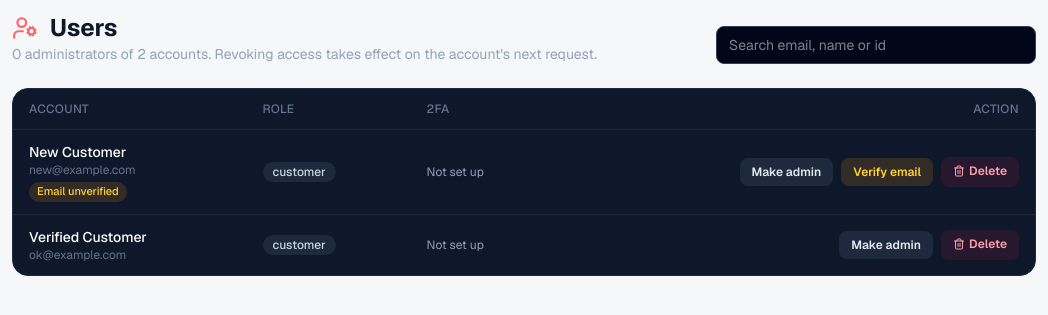
Test: AdminUsersPage: verify email › sends the reason and shows the account as verified
Click the button "Verify email".
click(887, 172)  # box top-left (841, 158), bottom-right (933, 186)
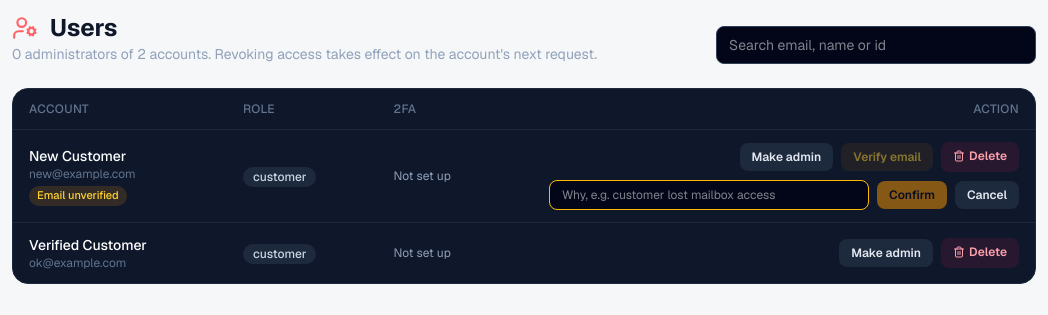
Type "customer lost mailbox access" into the field named "reason".
click(709, 195); type("customer lost mailbox access")  # box top-left (549, 180), bottom-right (869, 210)
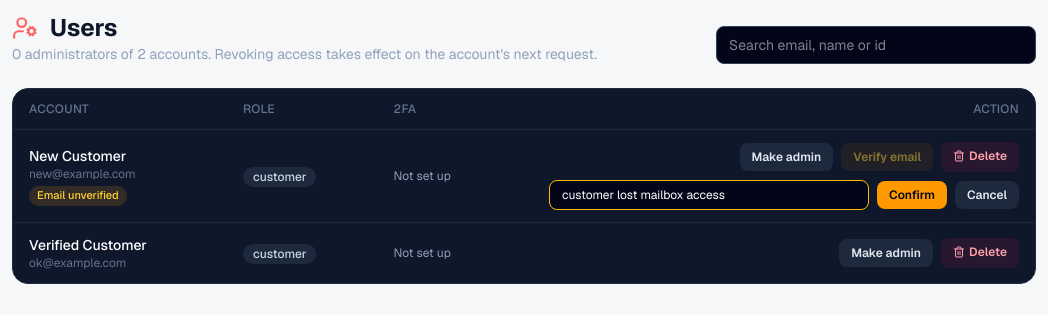
Click the button "Confirm".
click(912, 195)  # box top-left (877, 181), bottom-right (947, 209)
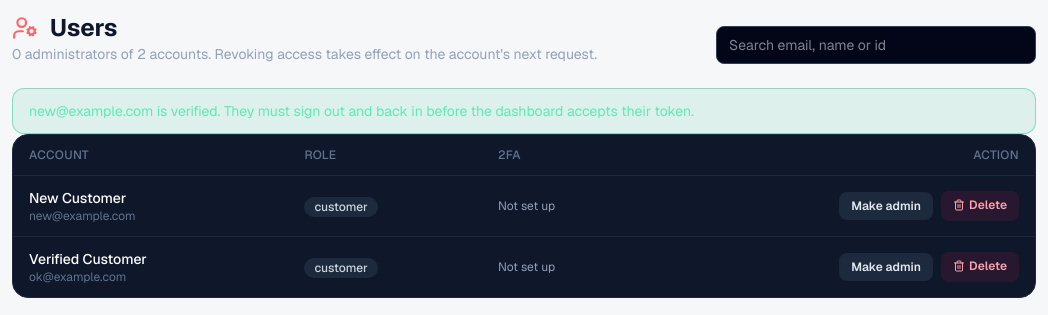
Now the text "must sign out and back in" is shown, box top-left (29, 102), bottom-right (694, 120)
Now the text "Email unverified" is gone
